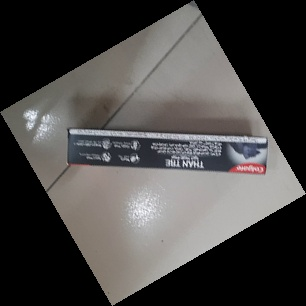Colgate Than: (67, 126, 269, 176)
